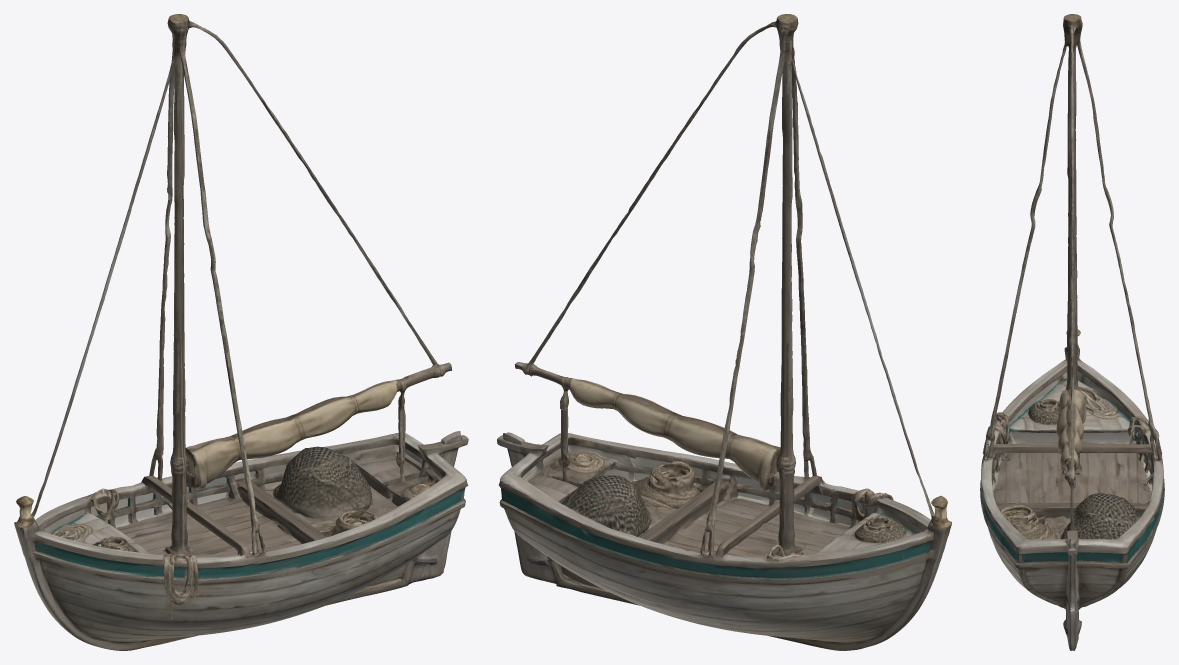
File: tidewake_moored_sailboat.glb
3 renders of one model, left to right at view 1: azimuth 30°, elevation 25°; view 2: azimuth 150°, elevation 25°; view 3: azimuth 270°, elevation 25°, orthographic. The views are drawn at different scales.
Visible parts, largest first — view 1: Mesh_0; view 2: Mesh_0; view 3: Mesh_0.
Part boxes in pixels (x1,y1,x2,y2): Mesh_0: (14,14,468,650); Mesh_0: (497,14,951,650); Mesh_0: (980,14,1164,650).
Bounding box in the file's own units: 1.44 × 1.9 × 0.603.
1 material, 1 textured.
